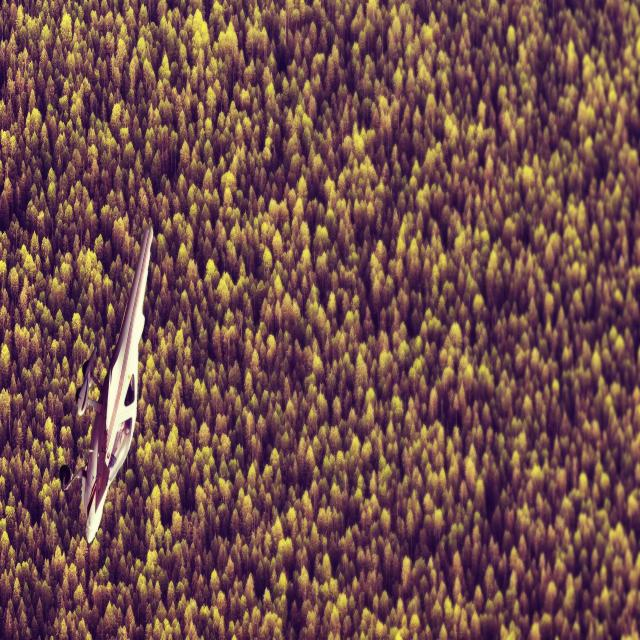airplane: (58, 222, 154, 545)
